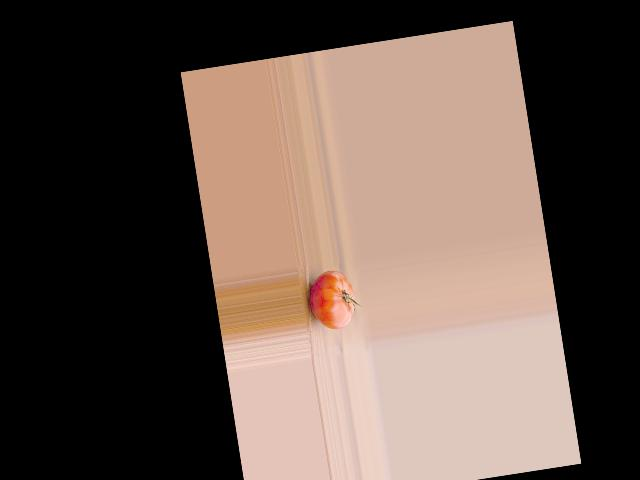tomato: (305, 268, 358, 333)
